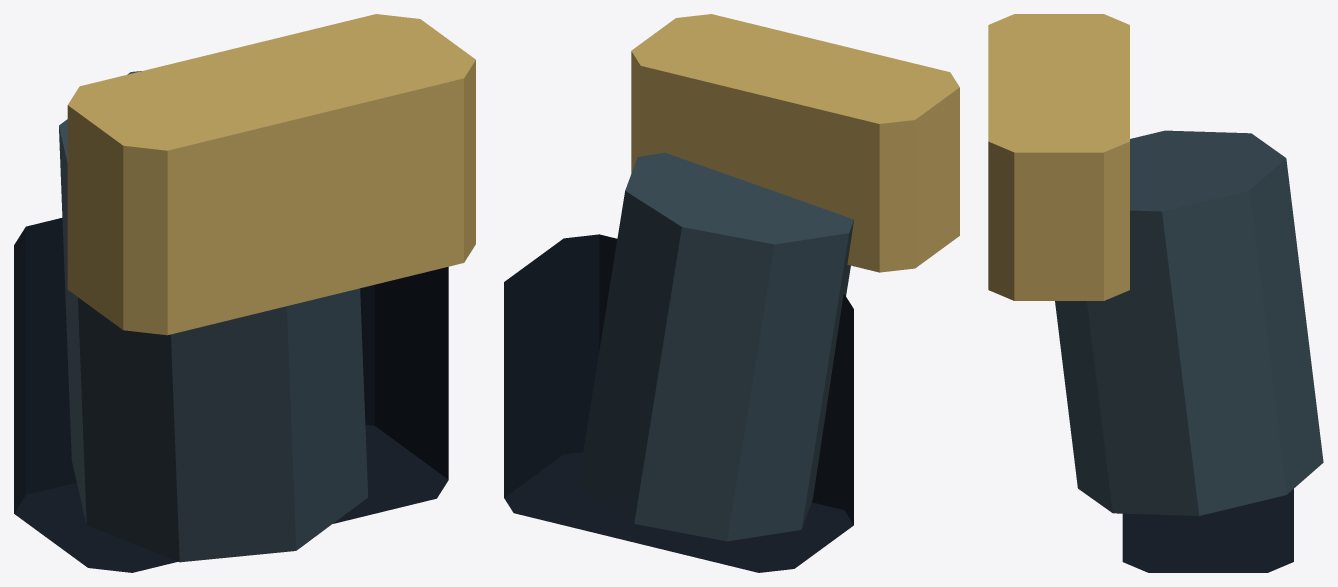
Rendered from enemy_gunner_lod_shin_l.obj.
3 views of the same model, side by side, from view 1: azimuth 30°, elevation 25°; view 2: azimuth 150°, elevation 25°; view 3: azimuth 270°, elevation 25° (orthographic). The views are drawn at different scales.
Size of the model in its own units: 0.51 by 0.59 by 0.4499.
